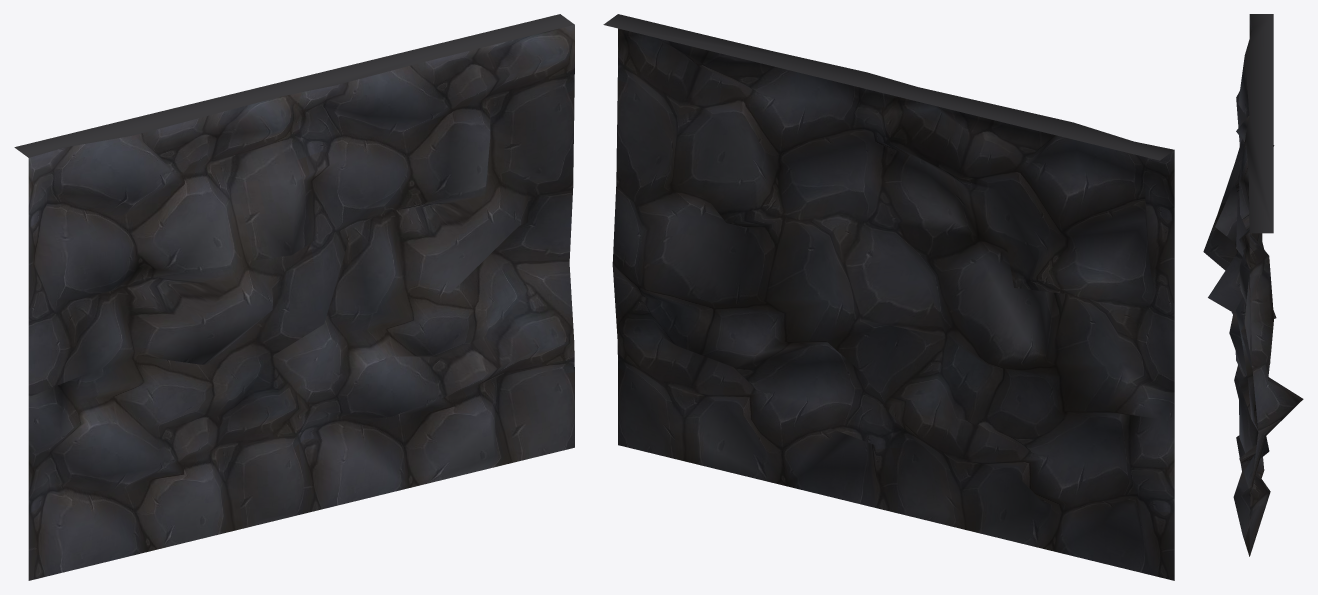
File: Wall_stone.001.fbx
3 renders of one model, left to right at view 1: azimuth 30°, elevation 25°; view 2: azimuth 150°, elevation 25°; view 3: azimuth 270°, elevation 25°, orthographic. The views are drawn at different scales.
Parts seen in each view (by area): view 1: Wall_stone.001; view 2: Wall_stone.001; view 3: Wall_stone.001.
Boxes of the visible parts, x1,y1,x2,y2 form: Wall_stone.001: [14, 14, 574, 580]; Wall_stone.001: [603, 14, 1174, 580]; Wall_stone.001: [1203, 14, 1303, 556].
Bounding box in the file's own units: 400 × 296 × 77.42.
